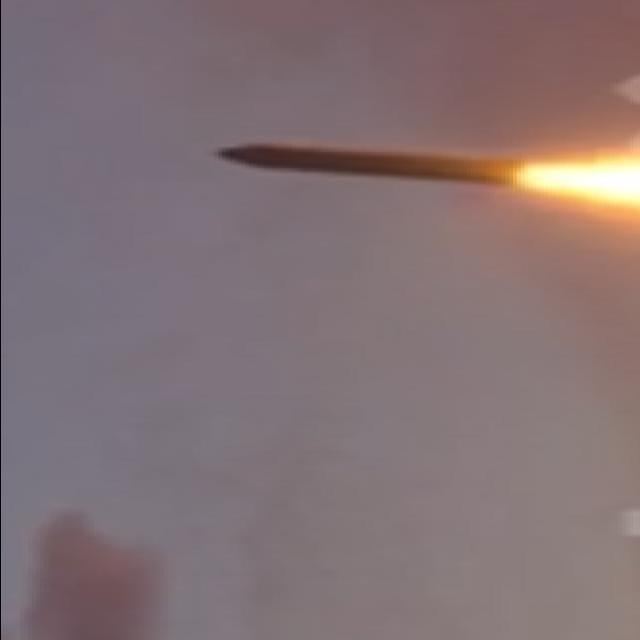Missile: (203, 138, 534, 197)
